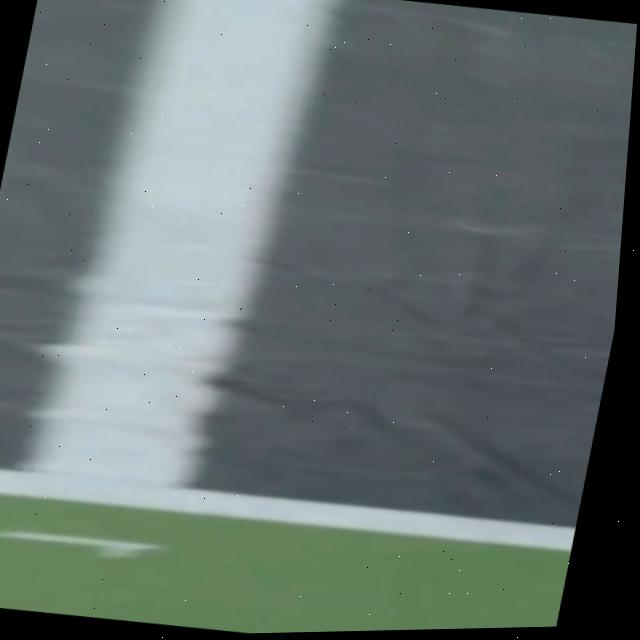right: (0, 468, 575, 549)
